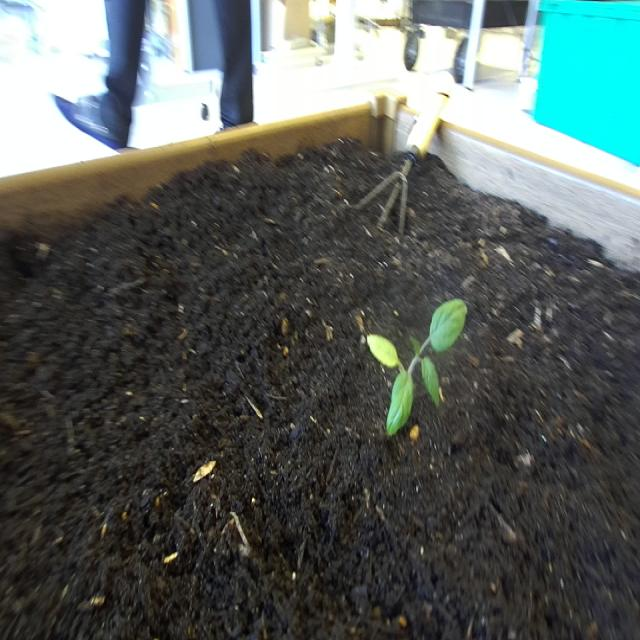Healthy: (364, 294, 469, 438)
